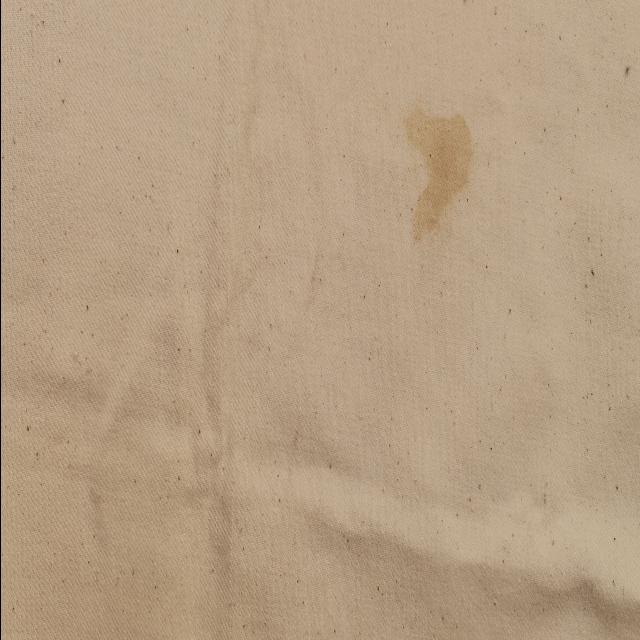taaaches: (398, 96, 484, 270)
